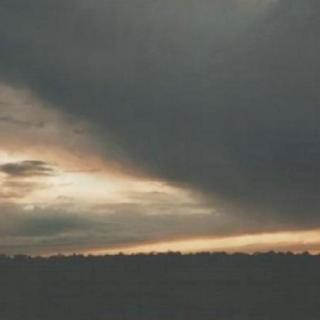Nimbostratus: (0, 3, 320, 236)
